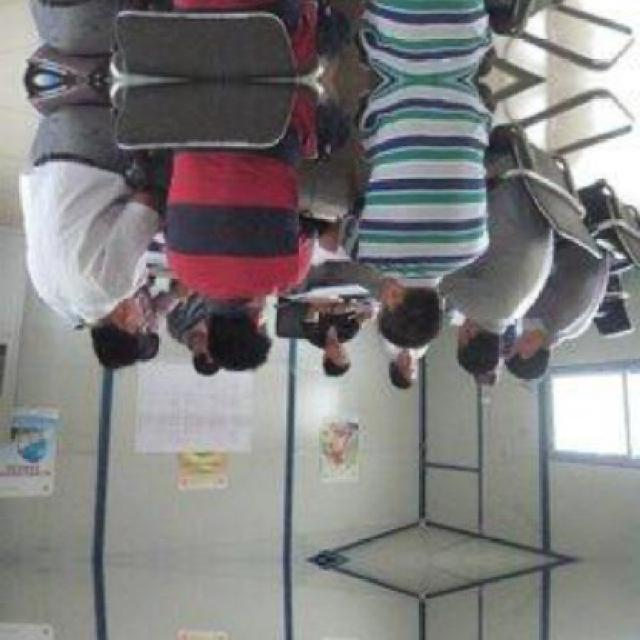sin casco: (185, 293, 298, 374), (43, 310, 208, 361), (362, 268, 459, 348), (447, 313, 523, 387), (497, 338, 555, 389)
